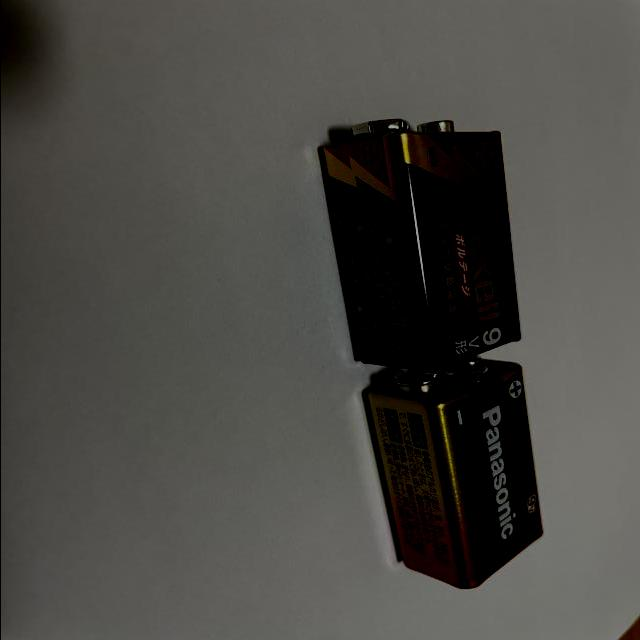9V: (323, 119, 521, 371), (361, 356, 543, 591)
